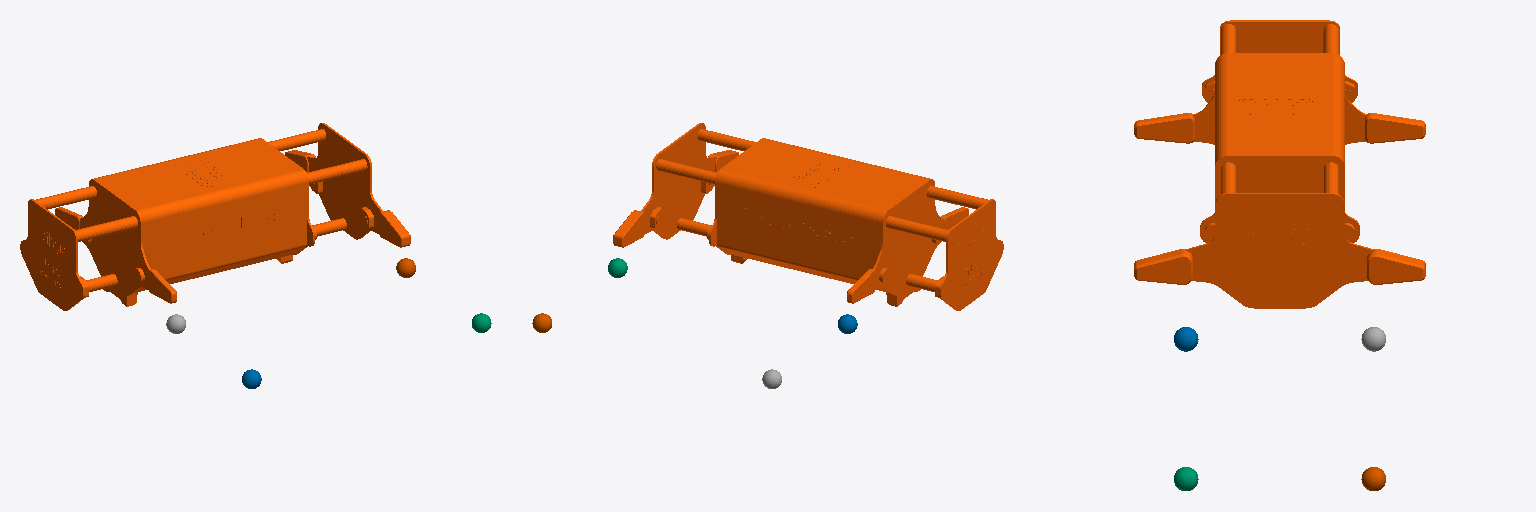
robot.urdf — laikago_description:
<?xml version="1.0" ?>
<!-- =================================================================================== -->
<!-- |    This document was autogenerated by xacro from robot.xacro                    | -->
<!-- |    EDITING THIS FILE BY HAND IS NOT RECOMMENDED                                 | -->
<!-- =================================================================================== -->
<robot name="laikago_description" xmlns:xacro="http://www.ros.org/wiki/xacro">
  <material name="black">
    <color rgba="0.0 0.0 0.0 1.0"/>
  </material>
  <material name="blue">
    <color rgba="0.0 0.0 0.8 1.0"/>
  </material>
  <material name="green">
    <color rgba="0.0 0.8 0.0 1.0"/>
  </material>
  <material name="grey">
    <color rgba="0.2 0.2 0.2 1.0"/>
  </material>
  <material name="silver">
    <color rgba="0.913725490196 0.913725490196 0.847058823529 1.0"/>
  </material>
  <material name="orange">
    <color rgba="1.0 0.423529411765 0.0392156862745 1.0"/>
  </material>
  <material name="brown">
    <color rgba="0.870588235294 0.811764705882 0.764705882353 1.0"/>
  </material>
  <material name="red">
    <color rgba="0.8 0.0 0.0 1.0"/>
  </material>
  <material name="white">
    <color rgba="1.0 1.0 1.0 1.0"/>
  </material>

  <link name="trunk">
    <visual>
      <origin rpy="0 0 0" xyz="0 0 0"/>
      <geometry>
        <mesh filename="../meshes/trunk.dae" scale="1 1 1"/>
      </geometry>
      <material name="orange"/>
    </visual>
    <collision>
      <origin rpy="0 0 0" xyz="0 0 0.01675"/>
      <geometry>
        <box size="0.5616 0.172 0.1875"/>
      </geometry>
    </collision>
    <inertial>
      <origin rpy="0 0 0" xyz="0.002284 -4.1e-05 0.025165"/>
      <mass value="13.733"/>
      <inertia ixx="0.073348887" ixy="0.00030338" ixz="0.001918218" iyy="0.250684593" iyz="-7.5402e-05" izz="0.254469458"/>
    </inertial>
  </link>

  <joint name="FL_hip_joint" type="revolute">
    <origin rpy="0 0 0" xyz="0.21935 0.0875 0"/>
    <parent link="trunk"/>
    <child link="FL_hip"/>
    <axis xyz="1 0 0"/>
    <dynamics damping="0" friction="0"/>
    <limit effort="20" lower="-0.872664625997" upper="1.0471975512" velocity="52.4"/>
  </joint>
  <link name="FL_hip">
    <visual>
      <origin rpy="0 0 0" xyz="0 0 0"/>
      <geometry>
        <mesh filename="../meshes/hip.dae" scale="1 1 1"/>
      </geometry>
      <material name="grey"/>
    </visual>
    <collision>
      <origin rpy="1.57079632679 0 0" xyz="0 -0.021 0"/>
      <geometry>
        <cylinder length="0.08" radius="0.041"/>
      </geometry>
    </collision>
    <inertial>
      <origin rpy="0 0 0" xyz="-0.001568 -0.008134 0.000864"/>
      <mass value="1.096"/>
      <inertia ixx="0.000822113" ixy="-4.982e-06" ixz="-3.672e-05" iyy="0.000983196" iyz="2.811e-06" izz="0.000864753"/>
    </inertial>
  </link>
  <joint name="FL_hip_fixed" type="fixed">
    <origin rpy="0 0 0" xyz="0 0.059 0"/>
    <parent link="FL_hip"/>
    <child link="FL_thigh_shoulder"/>
  </joint>
  <!-- this link is only for collision -->
  <link name="FL_thigh_shoulder">
    <collision>
      <origin rpy="1.57079632679 0 0" xyz="0 0 0"/>
      <geometry>
        <cylinder length="0.08" radius="0.044"/>
      </geometry>
    </collision>
  </link>
  <joint name="FL_thigh_joint" type="revolute">
    <origin rpy="0 0 0" xyz="0 0.037 0"/>
    <parent link="FL_hip"/>
    <child link="FL_thigh"/>
    <axis xyz="0 1 0"/>
    <dynamics damping="0" friction="0"/>
    <limit effort="55" lower="-0.523598775598" upper="3.92699081699" velocity="28.6"/>
  </joint>
  <link name="FL_thigh">
    <visual>
      <origin rpy="0 0 0" xyz="0 0 0"/>
      <geometry>
        <mesh filename="../meshes/thigh.dae" scale="1 1 1"/>
      </geometry>
      <material name="grey"/>
    </visual>
    <collision>
      <origin rpy="0 1.57079632679 0" xyz="0 0 -0.125"/>
      <geometry>
        <box size="0.25 0.034 0.043"/>
      </geometry>
    </collision>
    <inertial>
      <origin rpy="0 0 0" xyz="-0.000482 0.02001 -0.031996"/>
      <mass value="1.528"/>
      <inertia ixx="0.00991611" ixy="1.0388e-05" ixz="0.000250428" iyy="0.009280083" iyz="-8.511e-05" izz="0.00178256"/>
    </inertial>
  </link>
  <joint name="FL_calf_joint" type="revolute">
    <origin rpy="0 0 0" xyz="0 0 -0.25"/>
    <parent link="FL_thigh"/>
    <child link="FL_calf"/>
    <axis xyz="0 1 0"/>
    <dynamics damping="0" friction="0"/>
    <limit effort="55" lower="-2.77507351067" upper="-0.610865238198" velocity="28.6"/>
  </joint>
  <link name="FL_calf">
    <visual>
      <origin rpy="0 0 0" xyz="0 0 0"/>
      <geometry>
        <mesh filename="../meshes/calf.dae" scale="1 1 1"/>
      </geometry>
      <material name="silver"/>
    </visual>
    <collision>
      <origin rpy="0 1.57079632679 0" xyz="0 0 -0.125"/>
      <geometry>
        <box size="0.25 0.016 0.016"/>
      </geometry>
    </collision>
    <inertial>
      <origin rpy="0 0 0" xyz="-0.002196 -0.000381 -0.12338"/>
      <mass value="0.241"/>
      <inertia ixx="0.006181961" ixy="2.37e-07" ixz="-2.985e-06" iyy="0.006196546" iyz="5.138e-06" izz="3.4774e-05"/>
    </inertial>
  </link>
  <joint name="FL_foot_fixed" type="fixed">
    <origin rpy="0 0 0" xyz="0 0 -0.25"/>
    <parent link="FL_calf"/>
    <child link="FL_foot"/>
  </joint>
  <link name="FL_foot">
    <visual>
      <origin rpy="0 0 0" xyz="0 0 0"/>
      <geometry>
        <sphere radius="0.0165"/>
      </geometry>
    </visual>
    <collision>
      <origin rpy="0 0 0" xyz="0 0 0"/>
      <geometry>
        <sphere radius="0.0265"/>
      </geometry>
    </collision>
    <inertial>
      <mass value="0.06"/>
      <inertia ixx="1.6854e-05" ixy="0.0" ixz="0.0" iyy="1.6854e-05" iyz="0.0" izz="1.6854e-05"/>
    </inertial>
  </link>

  <joint name="FR_hip_joint" type="revolute">
    <origin rpy="0 0 0" xyz="0.21935 -0.0875 0"/>
    <parent link="trunk"/>
    <child link="FR_hip"/>
    <axis xyz="1 0 0"/>
    <dynamics damping="0" friction="0"/>
    <limit effort="20" lower="-1.0471975512" upper="0.872664625997" velocity="52.4"/>
  </joint>
  <link name="FR_hip">
    <visual>
      <origin rpy="3.14159265359 0 0" xyz="0 0 0"/>
      <geometry>
        <mesh filename="../meshes/hip.dae" scale="1 1 1"/>
      </geometry>
      <material name="grey"/>
    </visual>
    <collision>
      <origin rpy="1.57079632679 0 0" xyz="0 0.021 0"/>
      <geometry>
        <cylinder length="0.08" radius="0.041"/>
      </geometry>
    </collision>
    <inertial>
      <origin rpy="0 0 0" xyz="-0.001568 0.008134 0.000864"/>
      <mass value="1.096"/>
      <inertia ixx="0.000822113" ixy="4.982e-06" ixz="-3.672e-05" iyy="0.000983196" iyz="-2.811e-06" izz="0.000864753"/>
    </inertial>
  </link>
  <joint name="FR_hip_fixed" type="fixed">
    <origin rpy="0 0 0" xyz="0 -0.059 0"/>
    <parent link="FR_hip"/>
    <child link="FR_thigh_shoulder"/>
  </joint>
  <!-- this link is only for collision -->
  <link name="FR_thigh_shoulder">
    <collision>
      <origin rpy="1.57079632679 0 0" xyz="0 0 0"/>
      <geometry>
        <cylinder length="0.08" radius="0.044"/>
      </geometry>
    </collision>
  </link>
  <joint name="FR_thigh_joint" type="revolute">
    <origin rpy="0 0 0" xyz="0 -0.037 0"/>
    <parent link="FR_hip"/>
    <child link="FR_thigh"/>
    <axis xyz="0 1 0"/>
    <dynamics damping="0" friction="0"/>
    <limit effort="55" lower="-0.523598775598" upper="3.92699081699" velocity="28.6"/>
  </joint>
  <link name="FR_thigh">
    <visual>
      <origin rpy="0 0 0" xyz="0 0 0"/>
      <geometry>
        <mesh filename="../meshes/thigh_mirror.dae" scale="1 1 1"/>
      </geometry>
      <material name="grey"/>
    </visual>
    <collision>
      <origin rpy="0 1.57079632679 0" xyz="0 0 -0.125"/>
      <geometry>
        <box size="0.25 0.034 0.043"/>
      </geometry>
    </collision>
    <inertial>
      <origin rpy="0 0 0" xyz="-0.000482 -0.02001 -0.031996"/>
      <mass value="1.528"/>
      <inertia ixx="0.00991611" ixy="-1.0388e-05" ixz="0.000250428" iyy="0.009280083" iyz="8.511e-05" izz="0.00178256"/>
    </inertial>
  </link>
  <joint name="FR_calf_joint" type="revolute">
    <origin rpy="0 0 0" xyz="0 0 -0.25"/>
    <parent link="FR_thigh"/>
    <child link="FR_calf"/>
    <axis xyz="0 1 0"/>
    <dynamics damping="0" friction="0"/>
    <limit effort="55" lower="-2.77507351067" upper="-0.610865238198" velocity="28.6"/>
  </joint>
  <link name="FR_calf">
    <visual>
      <origin rpy="0 0 0" xyz="0 0 0"/>
      <geometry>
        <mesh filename="../meshes/calf.dae" scale="1 1 1"/>
      </geometry>
      <material name="silver"/>
    </visual>
    <collision>
      <origin rpy="0 1.57079632679 0" xyz="0 0 -0.125"/>
      <geometry>
        <box size="0.25 0.016 0.016"/>
      </geometry>
    </collision>
    <inertial>
      <origin rpy="0 0 0" xyz="-0.002196 -0.000381 -0.12338"/>
      <mass value="0.241"/>
      <inertia ixx="0.006181961" ixy="2.37e-07" ixz="-2.985e-06" iyy="0.006196546" iyz="5.138e-06" izz="3.4774e-05"/>
    </inertial>
  </link>
  <joint name="FR_foot_fixed" type="fixed">
    <origin rpy="0 0 0" xyz="0 0 -0.25"/>
    <parent link="FR_calf"/>
    <child link="FR_foot"/>
  </joint>
  <link name="FR_foot">
    <visual>
      <origin rpy="0 0 0" xyz="0 0 0"/>
      <geometry>
        <sphere radius="0.0165"/>
      </geometry>
    </visual>
    <collision>
      <origin rpy="0 0 0" xyz="0 0 0"/>
      <geometry>
        <sphere radius="0.0265"/>
      </geometry>
    </collision>
    <inertial>
      <mass value="0.06"/>
      <inertia ixx="1.6854e-05" ixy="0.0" ixz="0.0" iyy="1.6854e-05" iyz="0.0" izz="1.6854e-05"/>
    </inertial>
  </link>

  <joint name="RL_hip_joint" type="revolute">
    <origin rpy="0 0 0" xyz="-0.21935 0.0875 0"/>
    <parent link="trunk"/>
    <child link="RL_hip"/>
    <axis xyz="1 0 0"/>
    <dynamics damping="0" friction="0"/>
    <limit effort="20" lower="-0.872664625997" upper="1.0471975512" velocity="52.4"/>
  </joint>
  <link name="RL_hip">
    <visual>
      <origin rpy="0 3.14159265359 0" xyz="0 0 0"/>
      <geometry>
        <mesh filename="../meshes/hip.dae" scale="1 1 1"/>
      </geometry>
      <material name="grey"/>
    </visual>
    <collision>
      <origin rpy="1.57079632679 0 0" xyz="0 -0.021 0"/>
      <geometry>
        <cylinder length="0.08" radius="0.041"/>
      </geometry>
    </collision>
    <inertial>
      <origin rpy="0 0 0" xyz="0.001568 -0.008134 0.000864"/>
      <mass value="1.096"/>
      <inertia ixx="0.000822113" ixy="4.982e-06" ixz="3.672e-05" iyy="0.000983196" iyz="2.811e-06" izz="0.000864753"/>
    </inertial>
  </link>
  <joint name="RL_hip_fixed" type="fixed">
    <origin rpy="0 0 0" xyz="0 0.059 0"/>
    <parent link="RL_hip"/>
    <child link="RL_thigh_shoulder"/>
  </joint>
  <!-- this link is only for collision -->
  <link name="RL_thigh_shoulder">
    <collision>
      <origin rpy="1.57079632679 0 0" xyz="0 0 0"/>
      <geometry>
        <cylinder length="0.08" radius="0.044"/>
      </geometry>
    </collision>
  </link>
  <joint name="RL_thigh_joint" type="revolute">
    <origin rpy="0 0 0" xyz="0 0.037 0"/>
    <parent link="RL_hip"/>
    <child link="RL_thigh"/>
    <axis xyz="0 1 0"/>
    <dynamics damping="0" friction="0"/>
    <limit effort="55" lower="-0.523598775598" upper="3.92699081699" velocity="28.6"/>
  </joint>
  <link name="RL_thigh">
    <visual>
      <origin rpy="0 0 0" xyz="0 0 0"/>
      <geometry>
        <mesh filename="../meshes/thigh.dae" scale="1 1 1"/>
      </geometry>
    </visual>
    <collision>
      <origin rpy="0 1.57079632679 0" xyz="0 0 -0.125"/>
      <geometry>
        <box size="0.25 0.034 0.043"/>
      </geometry>
    </collision>
    <inertial>
      <origin rpy="0 0 0" xyz="-0.000482 0.02001 -0.031996"/>
      <mass value="1.528"/>
      <inertia ixx="0.00991611" ixy="1.0388e-05" ixz="0.000250428" iyy="0.009280083" iyz="-8.511e-05" izz="0.00178256"/>
    </inertial>
  </link>
  <joint name="RL_calf_joint" type="revolute">
    <origin rpy="0 0 0" xyz="0 0 -0.25"/>
    <parent link="RL_thigh"/>
    <child link="RL_calf"/>
    <axis xyz="0 1 0"/>
    <dynamics damping="0" friction="0"/>
    <limit effort="55" lower="-2.77507351067" upper="-0.610865238198" velocity="28.6"/>
  </joint>
  <link name="RL_calf">
    <visual>
      <origin rpy="0 0 0" xyz="0 0 0"/>
      <geometry>
        <mesh filename="../meshes/calf.dae" scale="1 1 1"/>
      </geometry>
    </visual>
    <collision>
      <origin rpy="0 1.57079632679 0" xyz="0 0 -0.125"/>
      <geometry>
        <box size="0.25 0.016 0.016"/>
      </geometry>
    </collision>
    <inertial>
      <origin rpy="0 0 0" xyz="-0.002196 -0.000381 -0.12338"/>
      <mass value="0.241"/>
      <inertia ixx="0.006181961" ixy="2.37e-07" ixz="-2.985e-06" iyy="0.006196546" iyz="5.138e-06" izz="3.4774e-05"/>
    </inertial>
  </link>
  <joint name="RL_foot_fixed" type="fixed">
    <origin rpy="0 0 0" xyz="0 0 -0.25"/>
    <parent link="RL_calf"/>
    <child link="RL_foot"/>
  </joint>
  <link name="RL_foot">
    <visual>
      <origin rpy="0 0 0" xyz="0 0 0"/>
      <geometry>
        <sphere radius="0.0165"/>
      </geometry>
    </visual>
    <collision>
      <origin rpy="0 0 0" xyz="0 0 0"/>
      <geometry>
        <sphere radius="0.0265"/>
      </geometry>
    </collision>
    <inertial>
      <mass value="0.06"/>
      <inertia ixx="1.6854e-05" ixy="0.0" ixz="0.0" iyy="1.6854e-05" iyz="0.0" izz="1.6854e-05"/>
    </inertial>
  </link>

  <joint name="RR_hip_joint" type="revolute">
    <origin rpy="0 0 0" xyz="-0.21935 -0.0875 0"/>
    <parent link="trunk"/>
    <child link="RR_hip"/>
    <axis xyz="1 0 0"/>
    <dynamics damping="0" friction="0"/>
    <limit effort="20" lower="-1.0471975512" upper="0.872664625997" velocity="52.4"/>
  </joint>
  <link name="RR_hip">
    <visual>
      <origin rpy="3.14159265359 3.14159265359 0" xyz="0 0 0"/>
      <geometry>
        <mesh filename="../meshes/hip.dae" scale="1 1 1"/>
      </geometry>
      <material name="grey"/>
    </visual>
    <collision>
      <origin rpy="1.57079632679 0 0" xyz="0 0.021 0"/>
      <geometry>
        <cylinder length="0.08" radius="0.041"/>
      </geometry>
    </collision>
    <inertial>
      <origin rpy="0 0 0" xyz="0.001568 0.008134 0.000864"/>
      <mass value="1.096"/>
      <inertia ixx="0.000822113" ixy="-4.982e-06" ixz="3.672e-05" iyy="0.000983196" iyz="-2.811e-06" izz="0.000864753"/>
    </inertial>
  </link>
  <joint name="RR_hip_fixed" type="fixed">
    <origin rpy="0 0 0" xyz="0 -0.059 0"/>
    <parent link="RR_hip"/>
    <child link="RR_thigh_shoulder"/>
  </joint>
  <!-- this link is only for collision -->
  <link name="RR_thigh_shoulder">
    <collision>
      <origin rpy="1.57079632679 0 0" xyz="0 0 0"/>
      <geometry>
        <cylinder length="0.08" radius="0.044"/>
      </geometry>
    </collision>
  </link>
  <joint name="RR_thigh_joint" type="revolute">
    <origin rpy="0 0 0" xyz="0 -0.037 0"/>
    <parent link="RR_hip"/>
    <child link="RR_thigh"/>
    <axis xyz="0 1 0"/>
    <dynamics damping="0" friction="0"/>
    <limit effort="55" lower="-0.523598775598" upper="3.92699081699" velocity="28.6"/>
  </joint>
  <link name="RR_thigh">
    <visual>
      <origin rpy="0 0 0" xyz="0 0 0"/>
      <geometry>
        <mesh filename="../meshes/thigh_mirror.dae" scale="1 1 1"/>
      </geometry>
      <material name="grey"/>
    </visual>
    <collision>
      <origin rpy="0 1.57079632679 0" xyz="0 0 -0.125"/>
      <geometry>
        <box size="0.25 0.034 0.043"/>
      </geometry>
    </collision>
    <inertial>
      <origin rpy="0 0 0" xyz="-0.000482 -0.02001 -0.031996"/>
      <mass value="1.528"/>
      <inertia ixx="0.00991611" ixy="-1.0388e-05" ixz="0.000250428" iyy="0.009280083" iyz="8.511e-05" izz="0.00178256"/>
    </inertial>
  </link>
  <joint name="RR_calf_joint" type="revolute">
    <origin rpy="0 0 0" xyz="0 0 -0.25"/>
    <parent link="RR_thigh"/>
    <child link="RR_calf"/>
    <axis xyz="0 1 0"/>
    <dynamics damping="0" friction="0"/>
    <limit effort="55" lower="-2.77507351067" upper="-0.610865238198" velocity="28.6"/>
  </joint>
  <link name="RR_calf">
    <visual>
      <origin rpy="0 0 0" xyz="0 0 0"/>
      <geometry>
        <mesh filename="../meshes/calf.dae" scale="1 1 1"/>
      </geometry>
      <material name="silver"/>
    </visual>
    <collision>
      <origin rpy="0 1.57079632679 0" xyz="0 0 -0.125"/>
      <geometry>
        <box size="0.25 0.016 0.016"/>
      </geometry>
    </collision>
    <inertial>
      <origin rpy="0 0 0" xyz="-0.002196 -0.000381 -0.12338"/>
      <mass value="0.241"/>
      <inertia ixx="0.006181961" ixy="2.37e-07" ixz="-2.985e-06" iyy="0.006196546" iyz="5.138e-06" izz="3.4774e-05"/>
    </inertial>
  </link>
  <joint name="RR_foot_fixed" type="fixed">
    <origin rpy="0 0 0" xyz="0 0 -0.25"/>
    <parent link="RR_calf"/>
    <child link="RR_foot"/>
  </joint>
  <link name="RR_foot">
    <visual>
      <origin rpy="0 0 0" xyz="0 0 0"/>
      <geometry>
        <sphere radius="0.0165"/>
      </geometry>
    </visual>
    <collision>
      <origin rpy="0 0 0" xyz="0 0 0"/>
      <geometry>
        <sphere radius="0.0265"/>
      </geometry>
    </collision>
    <inertial>
      <mass value="0.06"/>
      <inertia ixx="1.6854e-05" ixy="0.0" ixz="0.0" iyy="1.6854e-05" iyz="0.0" izz="1.6854e-05"/>
    </inertial>
  </link>

</robot>

--- Render facts (derived) ---
The picture shows the robot from 3 angles, left to right: view 1: azimuth 30°, elevation 25°; view 2: azimuth 150°, elevation 25°; view 3: azimuth 270°, elevation 25°; orthographic projection.
Model laikago_description with 21 links and 20 joints (12 revolute, 8 fixed), rooted at trunk, posed joints at zero except 4 at the middle of their limits (FL_calf_joint = -1.69, FR_calf_joint = -1.69, RL_calf_joint = -1.69, RR_calf_joint = -1.69).
Links seen in each view (by area): view 1: trunk; view 2: trunk; view 3: trunk.
Link boxes in pixels (left/top/right/bottom): trunk: left=20, top=123, right=410, bottom=310; trunk: left=613, top=123, right=1003, bottom=310; trunk: left=1134, top=20, right=1425, bottom=308.
Bounding box of the posed robot: 0.765 × 0.386 × 0.3468 m (x, y, z).
Meshes: 5 distinct files referenced, 1 mesh visuals loaded (1 Collada DAE); not drawn: 12 (reference not matched to a file when rendering).